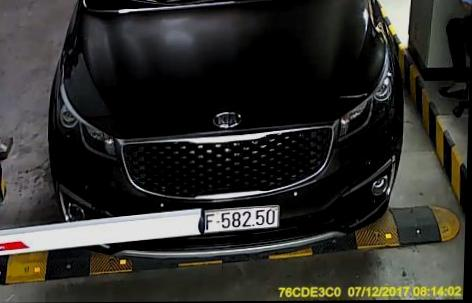License_Plate: (203, 206, 281, 233)
